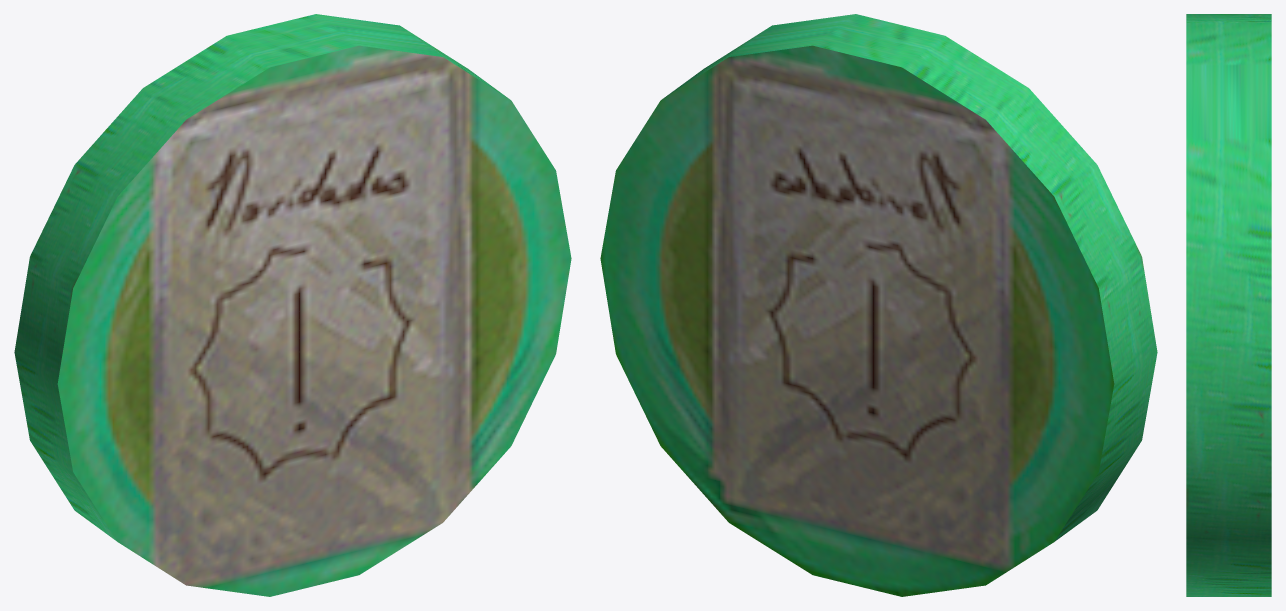
Rendered from novidades.FBX.
3 renders of one model, left to right at view 1: azimuth 30°, elevation 25°; view 2: azimuth 150°, elevation 25°; view 3: azimuth 270°, elevation 25°, orthographic.
Parts seen in each view (by area): view 1: Cylinder001; view 2: Cylinder001; view 3: Cylinder001.
Part boxes in pixels (x1,y1,x2,y2): Cylinder001: [14, 14, 571, 596]; Cylinder001: [600, 14, 1157, 596]; Cylinder001: [1186, 14, 1271, 596].
Size of the model in its own units: 0.9567 by 0.9422 by 0.1394.
1 material, 1 textured.
